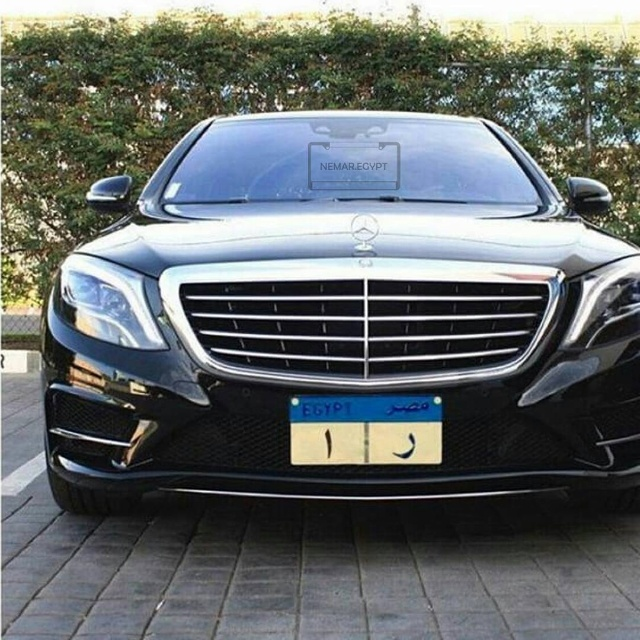License Plate: (283, 389, 447, 470)
